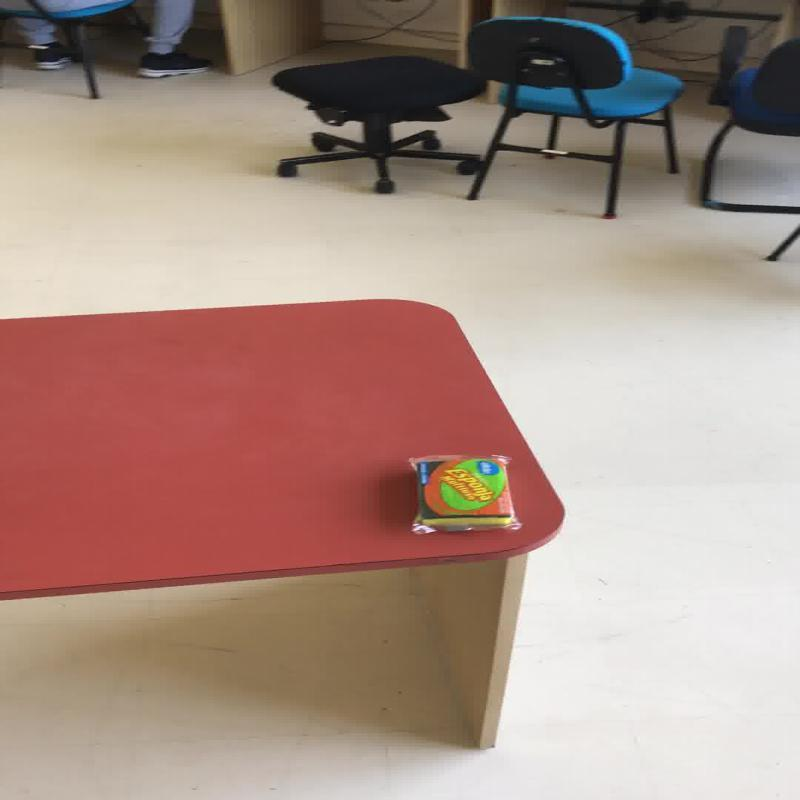sponge: (407, 453, 516, 533)
